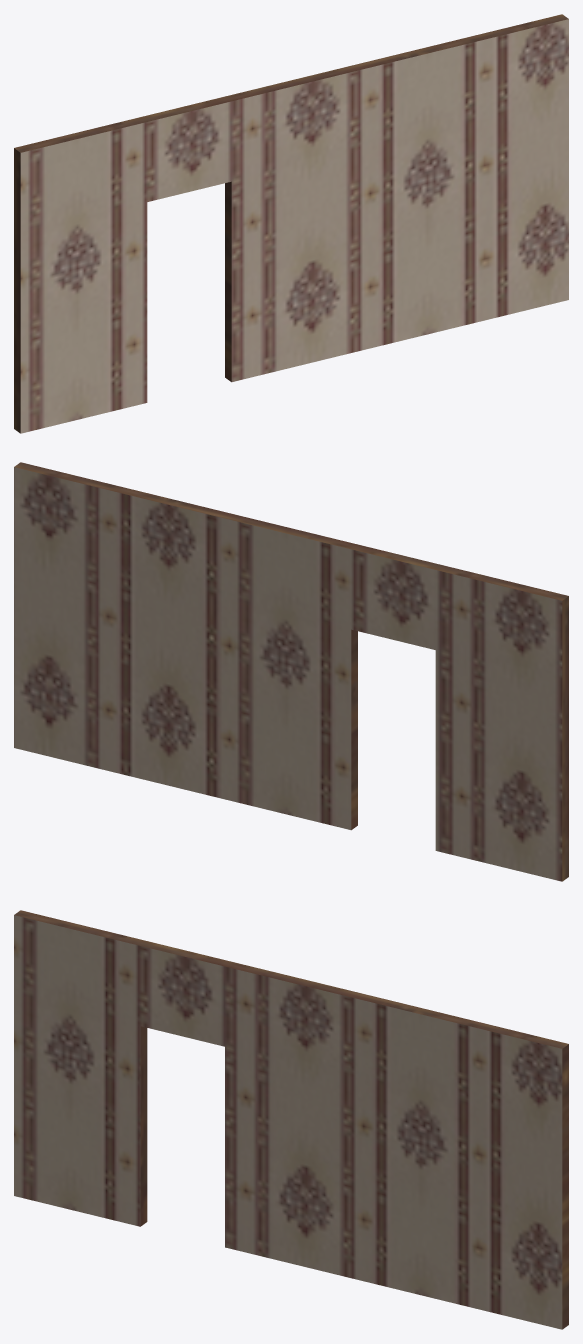
The model's file is 0_wall_1_woqr.dae.
3 renders of one model, top to bottom at view 1: azimuth 30°, elevation 25°; view 2: azimuth 150°, elevation 25°; view 3: azimuth 330°, elevation 25°, orthographic.
Parts seen in each view (by area): view 1: Plane.006; view 2: Plane.006; view 3: Plane.006.
Boxes of the visible parts, box(x1,y1,x2,y2) form: Plane.006: box(14, 14, 568, 433); Plane.006: box(14, 462, 568, 881); Plane.006: box(14, 910, 568, 1329).
Size of the model in its own units: 7.15 by 0.15 by 3.5.
1 material, 1 textured.
